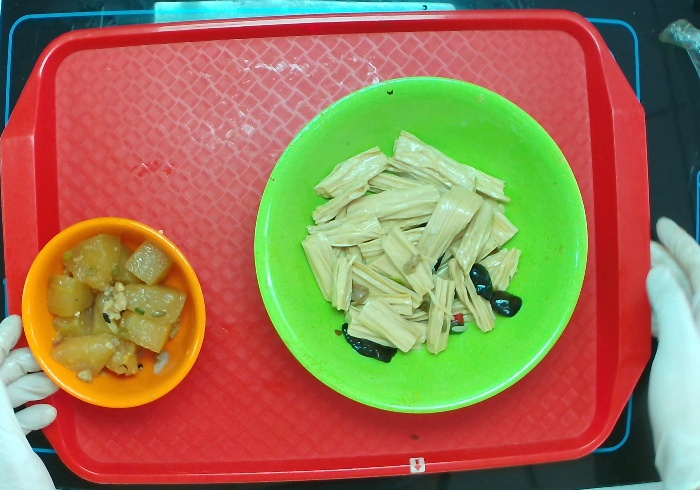YKMZ-Ju_Se_Yuan_Wan: (18, 213, 218, 411)
YKMZ-Lv_Se_Tang_Wan: (251, 66, 600, 422)
